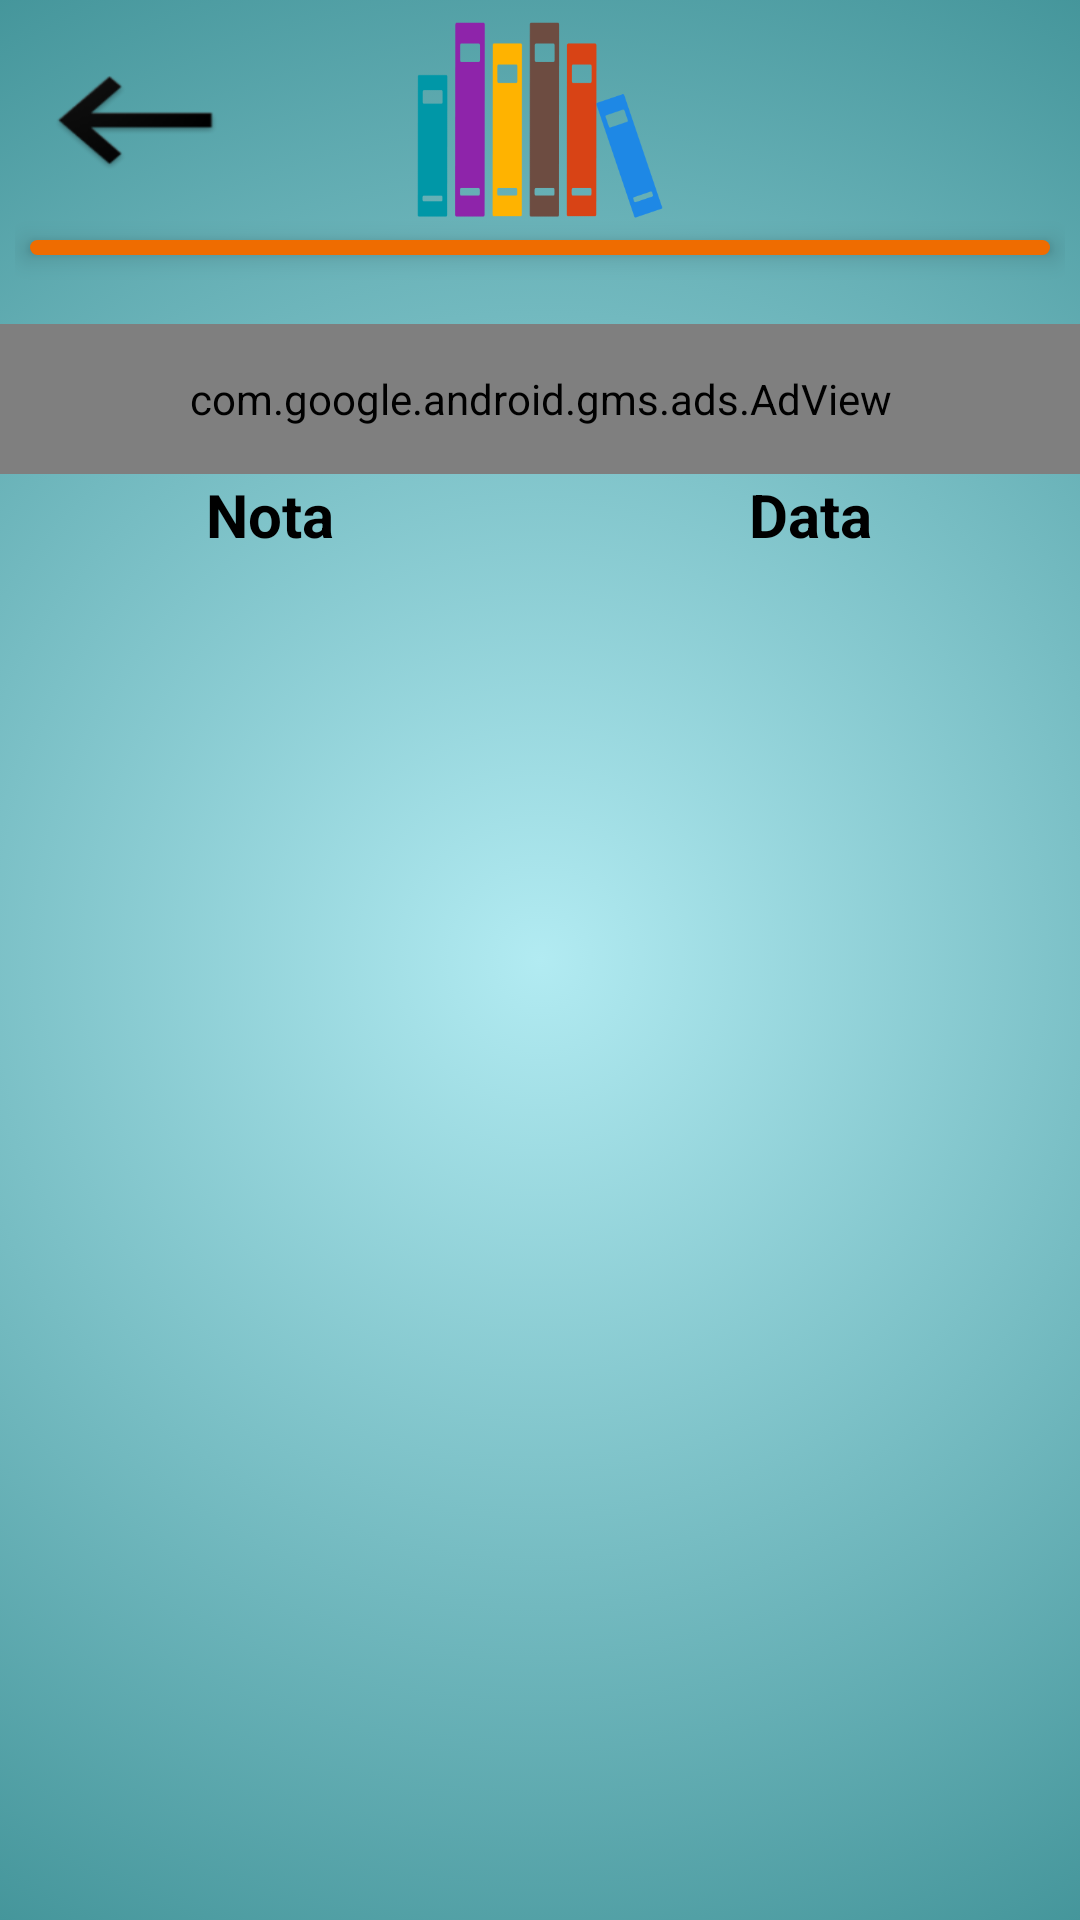

Where icons sit on this 1080*1920 app screen, as [x1=x1, y1=y1, x2=x2, y2=y2]:
graphic book: [x1=418, y1=22, x2=663, y2=218]
